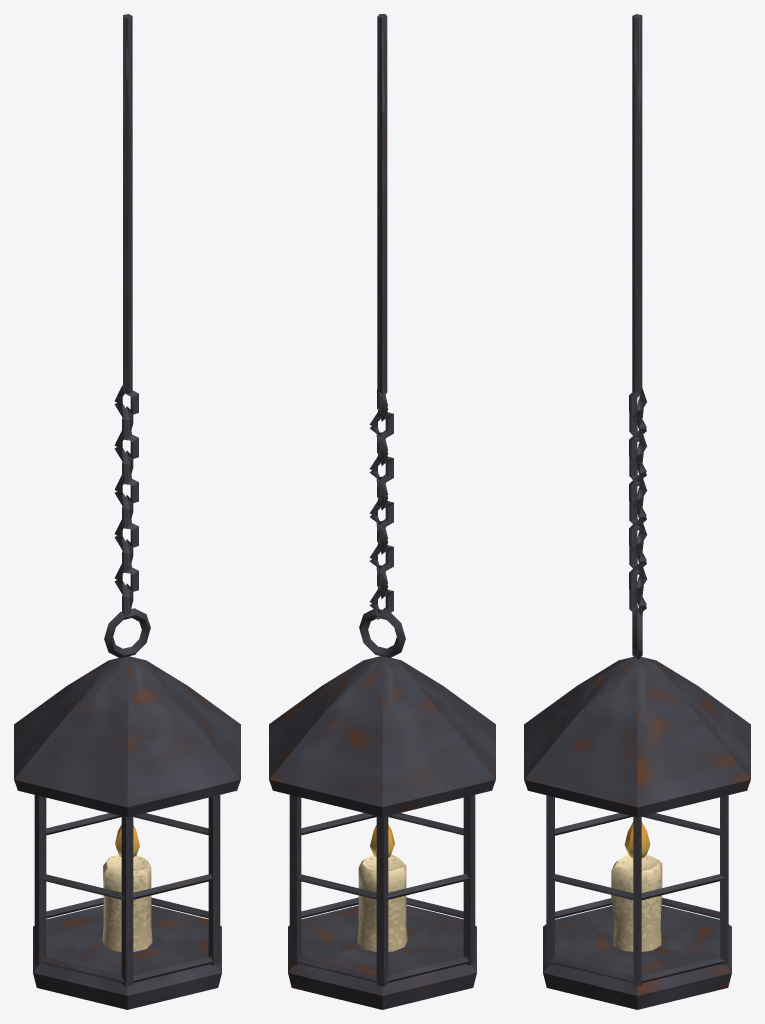
The model's file is Lamp_Lantern6.fbx.
The picture shows the model from 3 angles, left to right: view 1: azimuth 30°, elevation 25°; view 2: azimuth 150°, elevation 25°; view 3: azimuth 270°, elevation 25°; orthographic projection.
Visible parts, largest first — view 1: Lamp_Lantern6; view 2: Lamp_Lantern6; view 3: Lamp_Lantern6.
Part boxes in pixels (box(x1,y1,x2,y2)): Lamp_Lantern6: box(14, 14, 240, 1009); Lamp_Lantern6: box(269, 14, 495, 1009); Lamp_Lantern6: box(524, 14, 750, 1009).
Size of the model in its own units: 0.6 by 2.4 by 0.5196.
2 materials, 2 textured.
